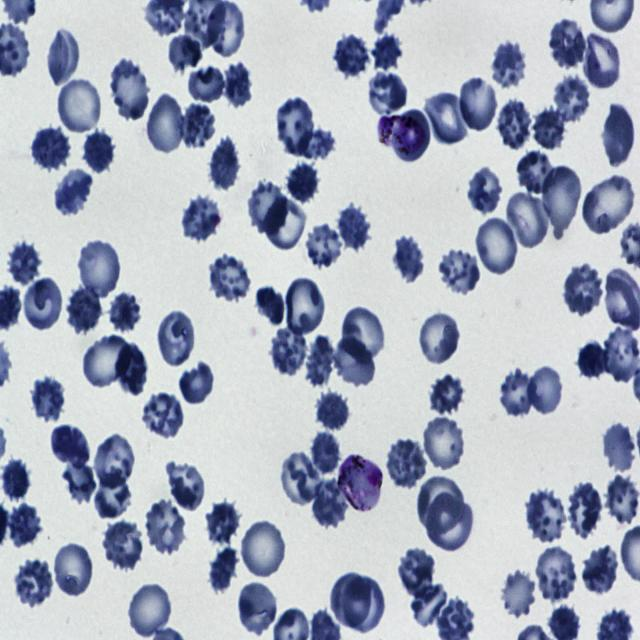difficult: (377, 112, 427, 154)
red blood cell: (582, 173, 636, 238), (76, 235, 122, 300), (240, 518, 288, 580), (418, 472, 463, 537), (540, 165, 580, 238), (56, 74, 103, 136), (81, 333, 132, 390), (474, 214, 520, 277), (339, 305, 387, 365), (504, 192, 552, 251), (422, 413, 468, 473), (426, 491, 472, 551), (273, 94, 317, 155), (143, 498, 190, 555), (424, 90, 471, 147), (108, 60, 150, 123), (127, 580, 172, 638), (284, 275, 326, 337), (246, 178, 290, 237), (534, 545, 579, 602), (332, 332, 377, 389), (93, 432, 137, 490), (456, 73, 499, 132), (146, 92, 186, 155), (418, 309, 462, 366), (236, 580, 279, 638), (262, 196, 306, 252), (341, 577, 385, 633), (600, 102, 637, 168), (582, 30, 622, 91), (52, 542, 94, 600), (140, 389, 188, 439), (22, 276, 64, 333), (384, 439, 430, 489), (331, 572, 372, 628), (100, 519, 144, 571), (156, 309, 194, 369), (566, 480, 604, 540), (550, 71, 593, 124), (562, 262, 604, 316), (497, 367, 539, 421), (525, 489, 566, 544), (547, 15, 588, 70), (164, 457, 206, 510), (280, 452, 321, 506), (391, 109, 431, 164), (208, 252, 252, 302), (46, 25, 82, 86), (207, 1, 246, 57), (180, 193, 224, 242), (26, 126, 71, 172), (366, 70, 409, 118), (268, 325, 309, 375), (92, 469, 133, 519), (465, 166, 505, 217), (496, 99, 536, 150), (605, 326, 640, 384), (513, 150, 557, 196), (436, 250, 480, 296), (598, 420, 636, 473), (304, 220, 345, 269), (209, 133, 243, 192), (4, 238, 44, 286), (397, 548, 436, 597), (66, 285, 104, 335), (26, 372, 64, 422), (389, 235, 426, 286), (409, 581, 449, 628), (582, 544, 618, 596), (179, 102, 218, 150), (13, 559, 52, 607), (5, 499, 43, 548), (332, 31, 372, 77), (530, 104, 570, 150), (528, 365, 564, 416), (426, 372, 466, 417), (309, 429, 346, 477), (499, 569, 534, 619), (179, 359, 216, 406), (606, 472, 638, 526), (305, 333, 335, 389), (313, 388, 352, 431), (491, 41, 526, 88), (312, 483, 348, 528), (50, 426, 90, 466), (115, 343, 146, 394), (205, 500, 240, 545), (62, 458, 96, 504), (57, 169, 91, 213), (208, 545, 239, 593), (187, 64, 225, 103), (338, 204, 371, 248), (223, 59, 252, 108), (0, 457, 32, 501), (168, 33, 204, 72), (84, 127, 115, 172), (109, 290, 141, 332), (288, 160, 319, 203), (576, 339, 608, 378), (296, 128, 336, 158), (255, 286, 285, 325), (372, 33, 402, 72)
trophozoite: (337, 454, 384, 515)
